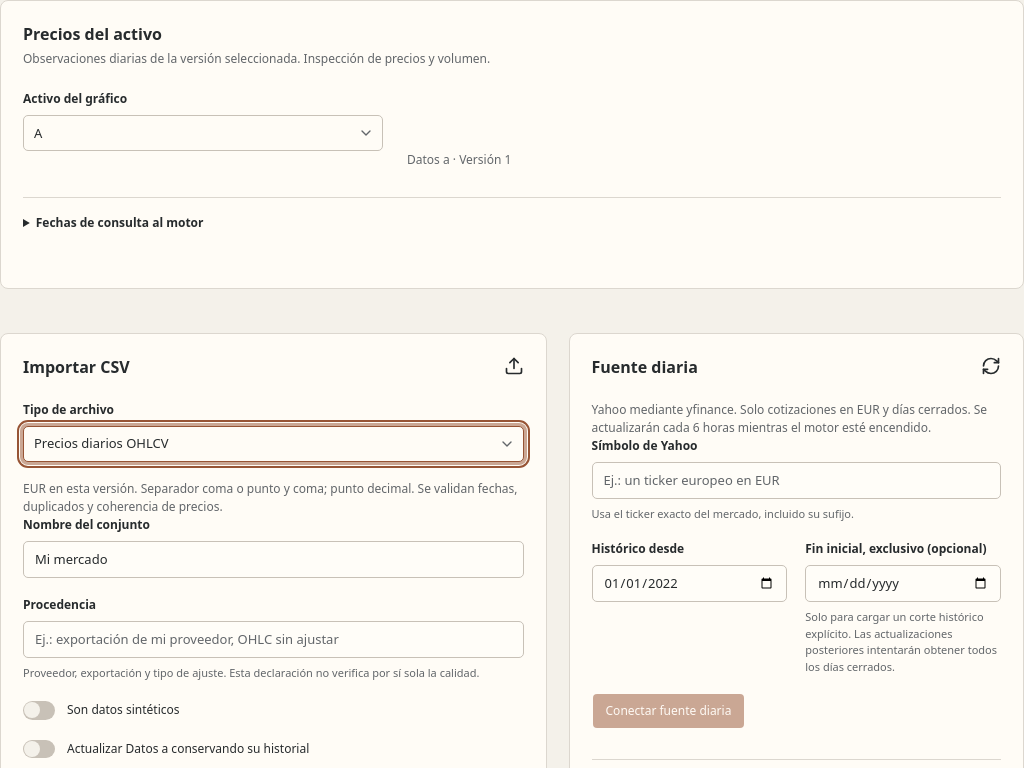
Confirmación de movimientos › exige otra revisión al cambiar csv
The image size is (1024, 768).
Press Arrowdown
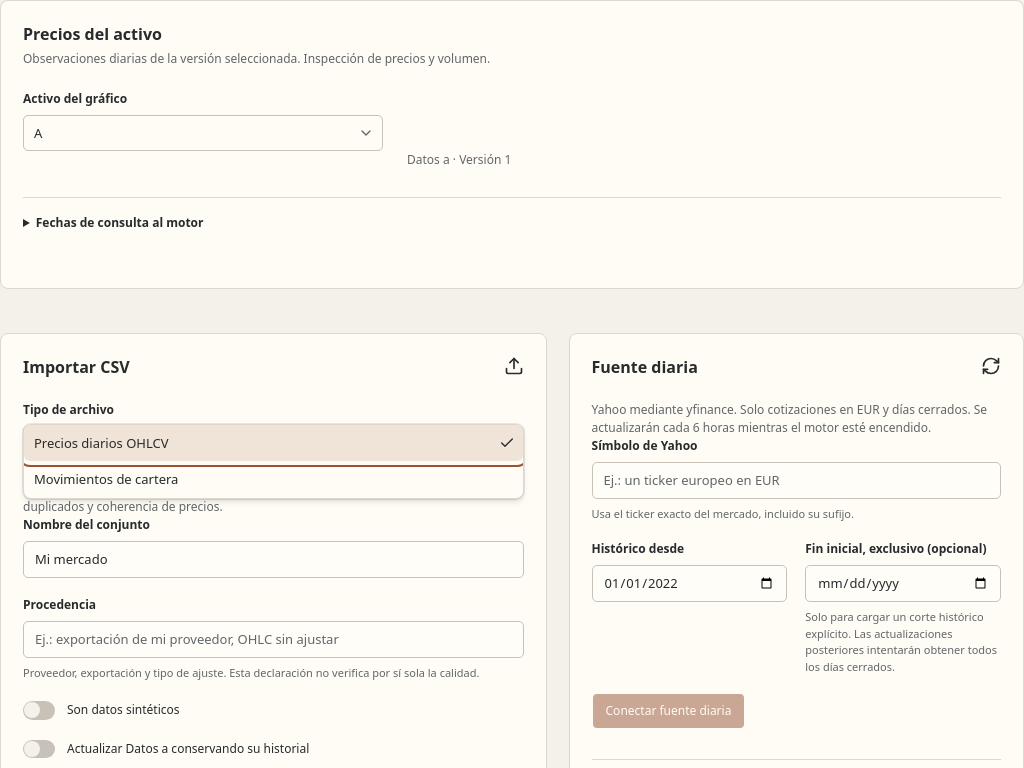
Click the option "Movimientos de cartera": (106,479) [34, 470, 178, 488]
(page scrolled)
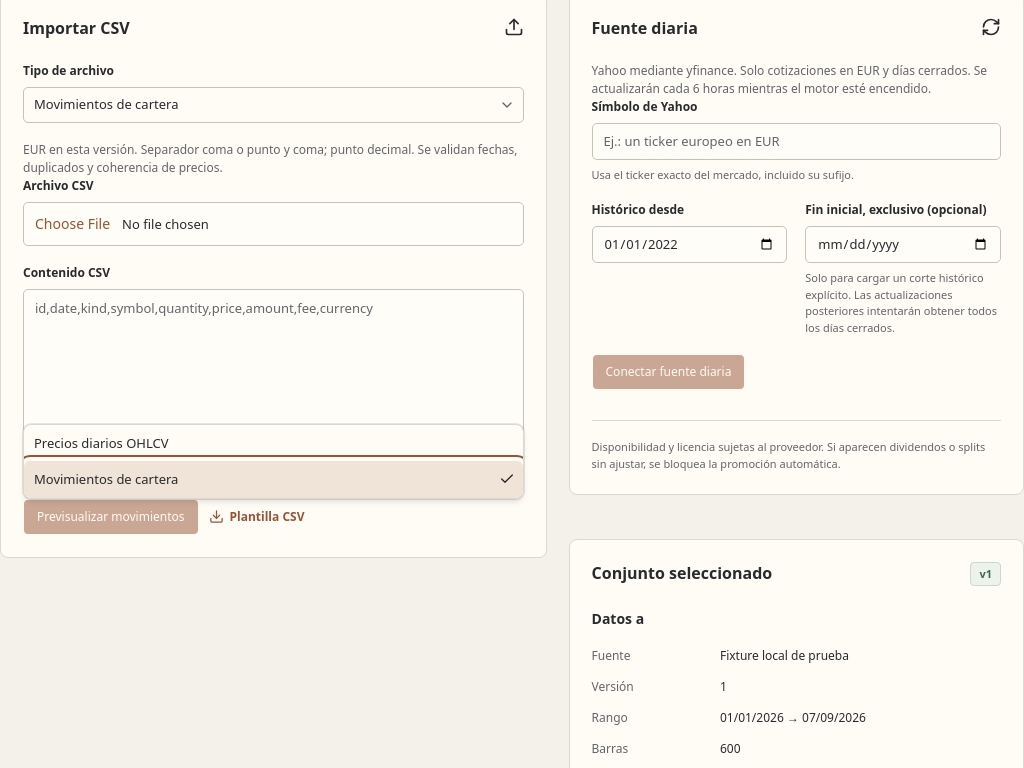
In the text box labelled "Contenido CSV": (273,385) [23, 289, 524, 481], type "csv-reviewed"
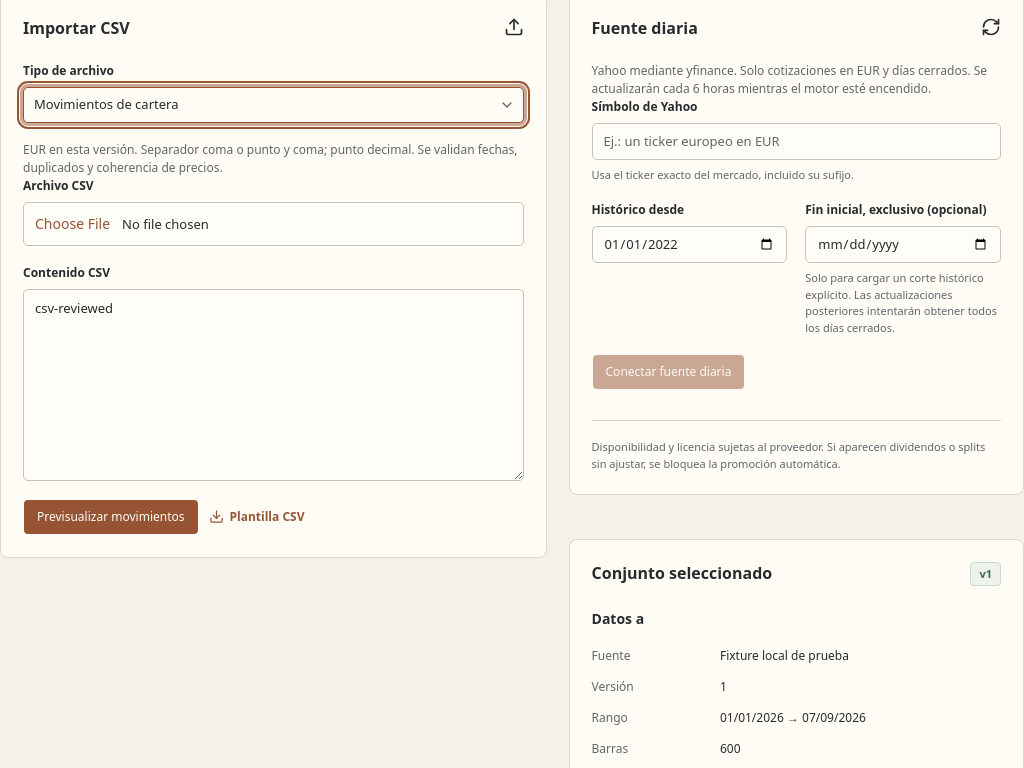
Click the button "Previsualizar movimientos": (111,517) [23, 499, 198, 535]
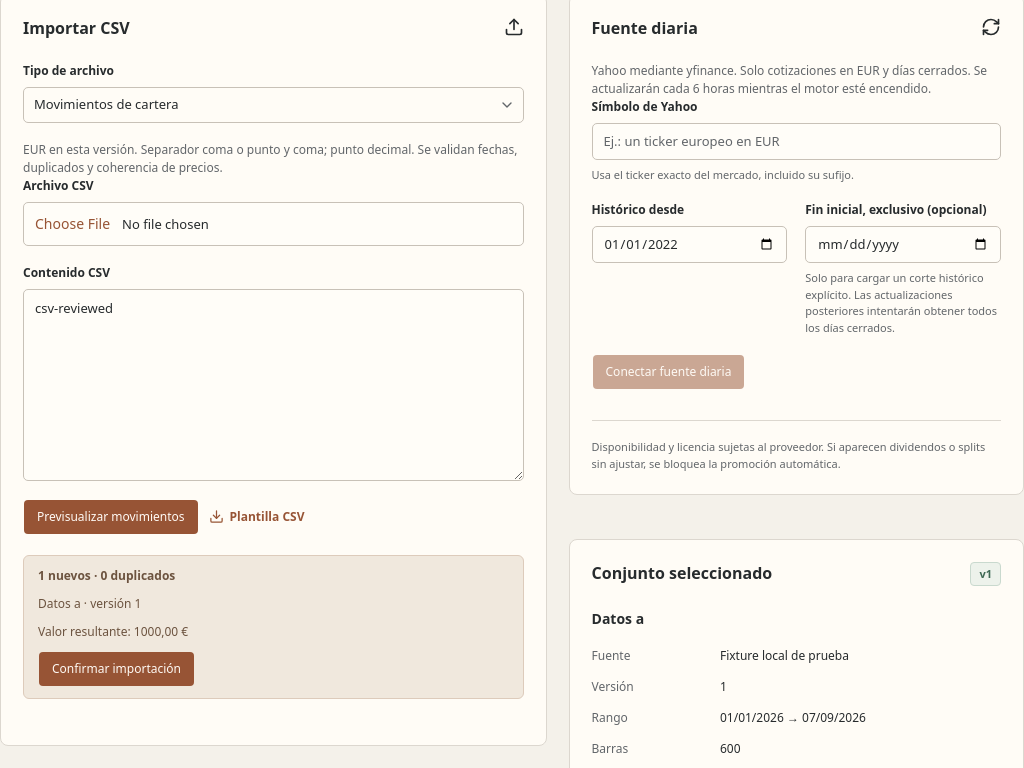
Result: the button "Confirmar importación" is shown at [38, 651, 195, 687]
Replace the text in the text box labelled "Contenido CSV" with "other-csv": (273,385) [23, 289, 524, 481]
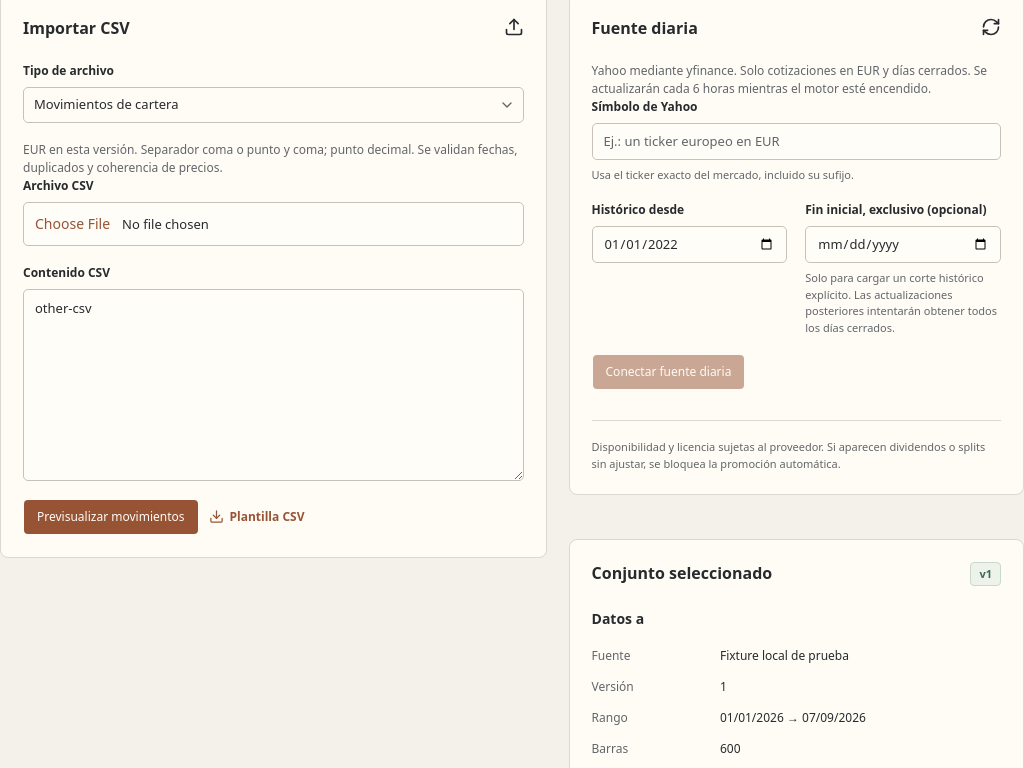
Result: the button "Confirmar importación" is gone
